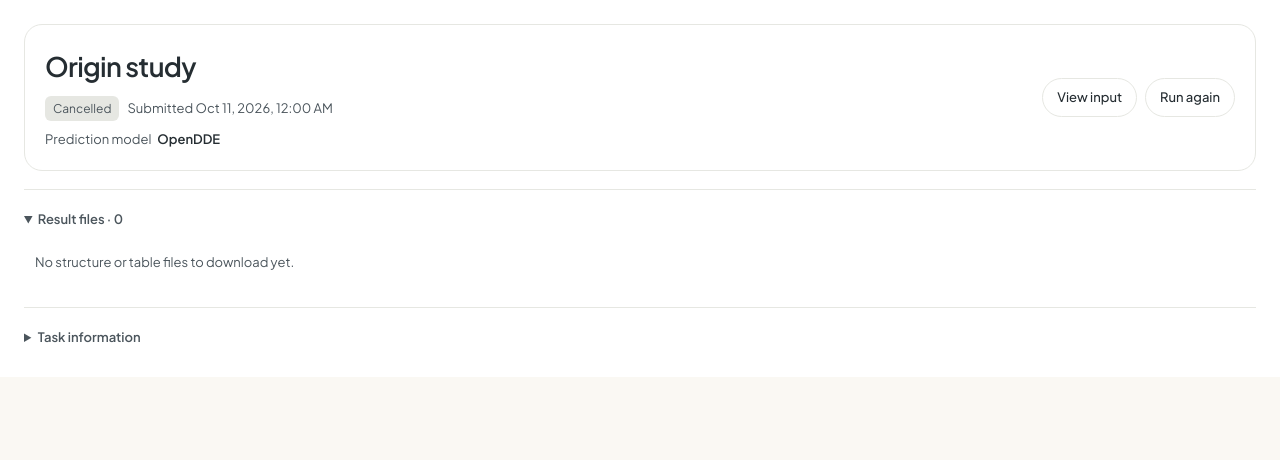
Test: keeps an action failure attached to its source task when selection changes
Click the button "Run again".
click(1190, 98)  # box [1145,78,1235,117]
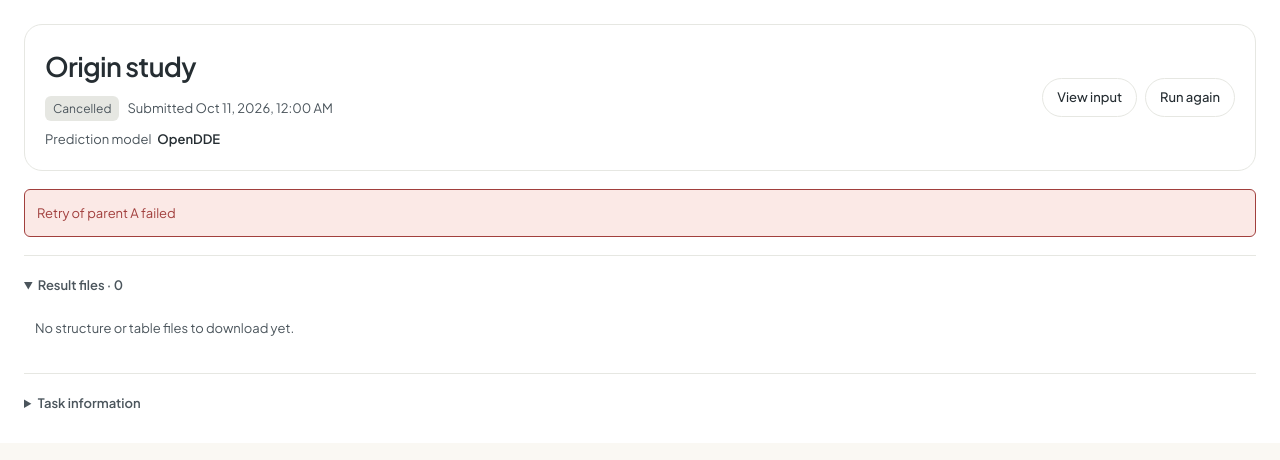
Result: the message reads "Retry of parent A failed" at [37,205,176,221]
